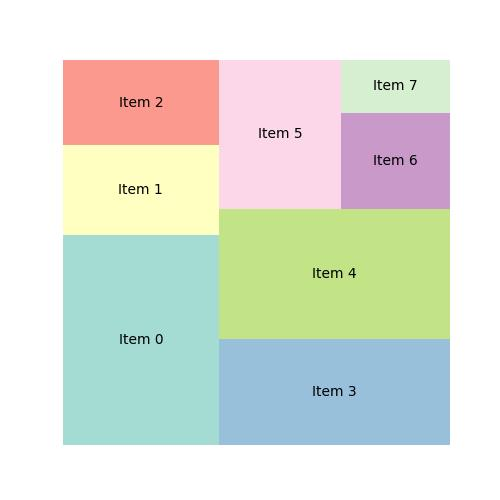rectangle: (61, 236, 219, 446), (217, 209, 450, 341), (216, 339, 451, 446), (219, 58, 341, 210), (62, 142, 219, 234), (63, 60, 218, 146), (341, 114, 451, 210), (343, 59, 451, 114)
